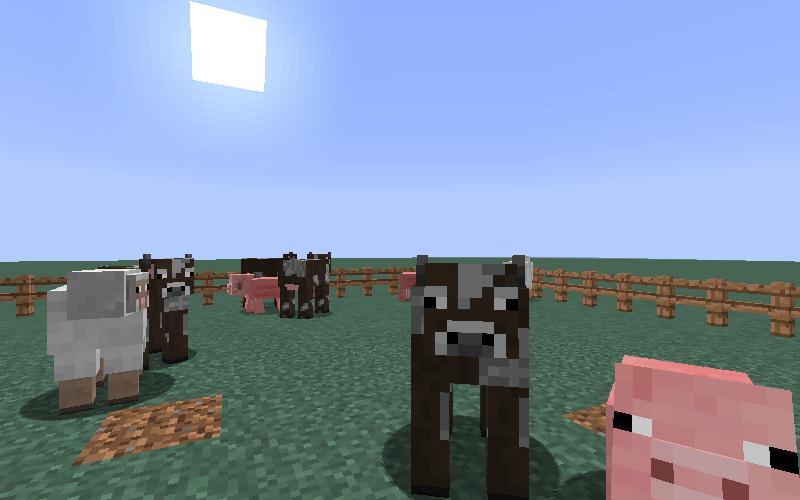cow: (407, 249, 531, 500), (141, 253, 194, 363), (278, 247, 333, 328)
pig: (605, 353, 800, 497), (227, 274, 279, 315)
sheep: (40, 261, 154, 414)
